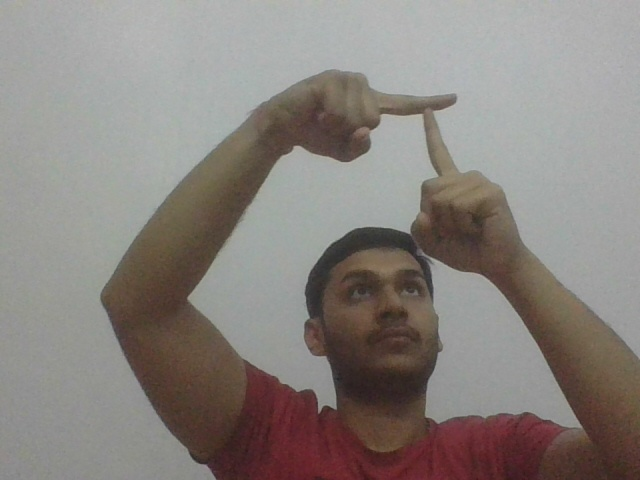T: (382, 84, 477, 169)
